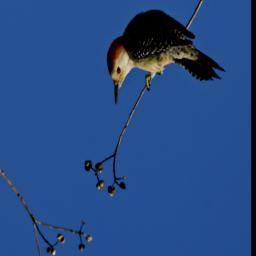Woodpecker: (97, 7, 229, 109)
